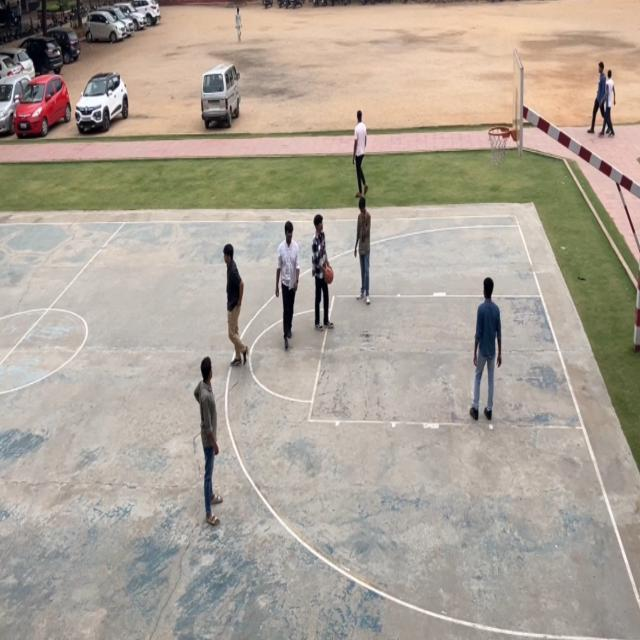basketball: (323, 266, 336, 286)
hoop: (488, 124, 512, 165)
